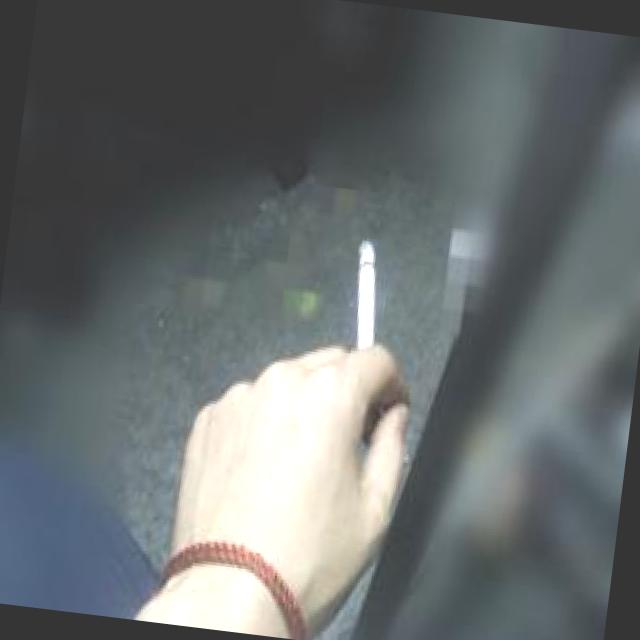cigarette: (346, 232, 388, 345)
